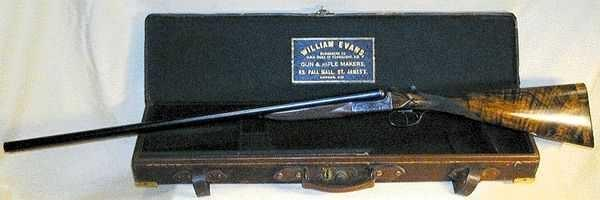heavyweapon: (2, 47, 595, 172)
